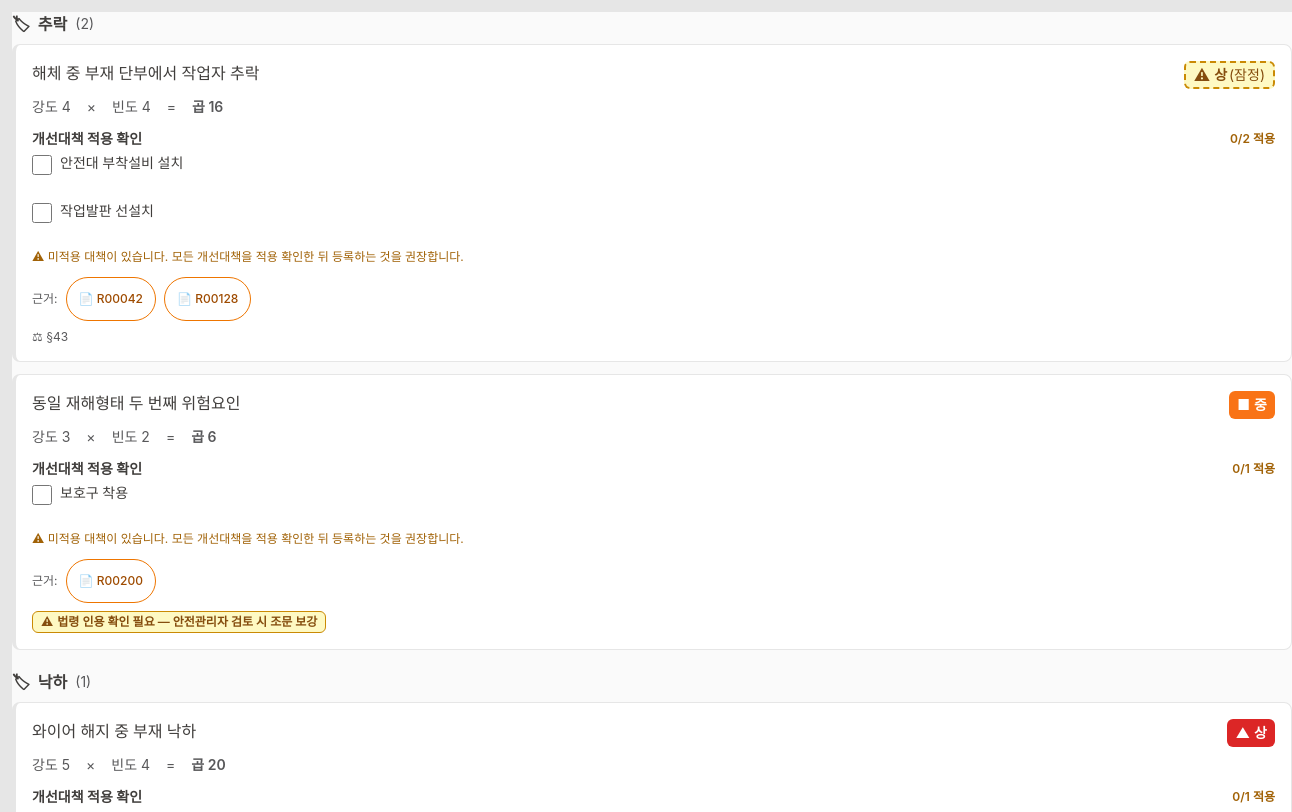
Test: HazardMatrix › 개선대책은 미체크로 시작하고 체크 시 '적용 확인'과 카운트가 갱신된다 (P1-2)
Expected: the text "0/2 적용" is shown, x1=1230 y1=131 x2=1275 y2=147
Click the checkbox with test id "control-checkbox" showing "안전대 부착설비 설치".
click(42, 165)  # box x1=32 y1=155 x2=52 y2=175
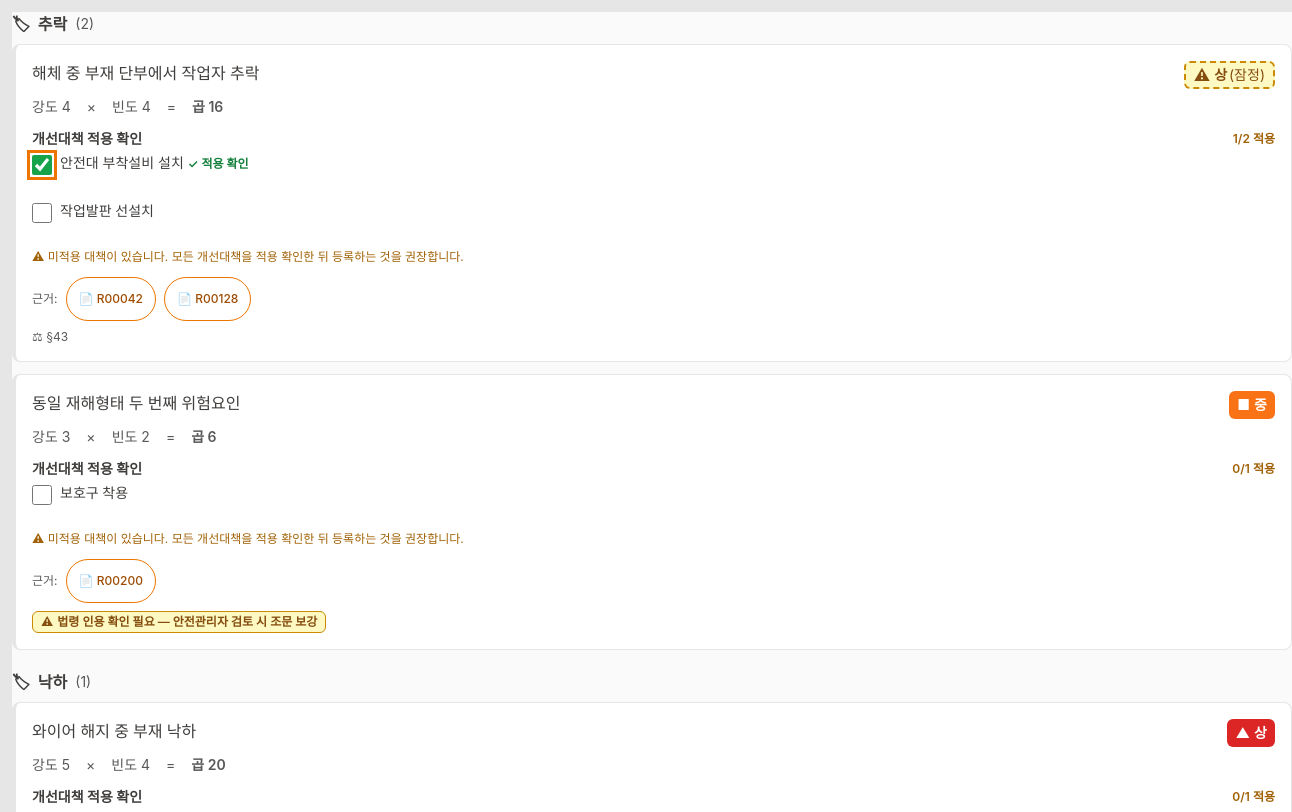
Expected: the checkbox with test id "control-checkbox" showing "안전대 부착설비 설치✓ 적용 확인" is checked, x1=32 y1=155 x2=52 y2=175
Expected: the text "1/2 적용" is shown, x1=1233 y1=131 x2=1275 y2=147
Expected: the text "✓ 적용 확인" is shown, x1=188 y1=156 x2=249 y2=171
// 전부 체크 → 미적용 경고 사라짐
Click the checkbox with test id "control-checkbox" showing "작업발판 선설치".
click(42, 213)  # box x1=32 y1=203 x2=52 y2=223
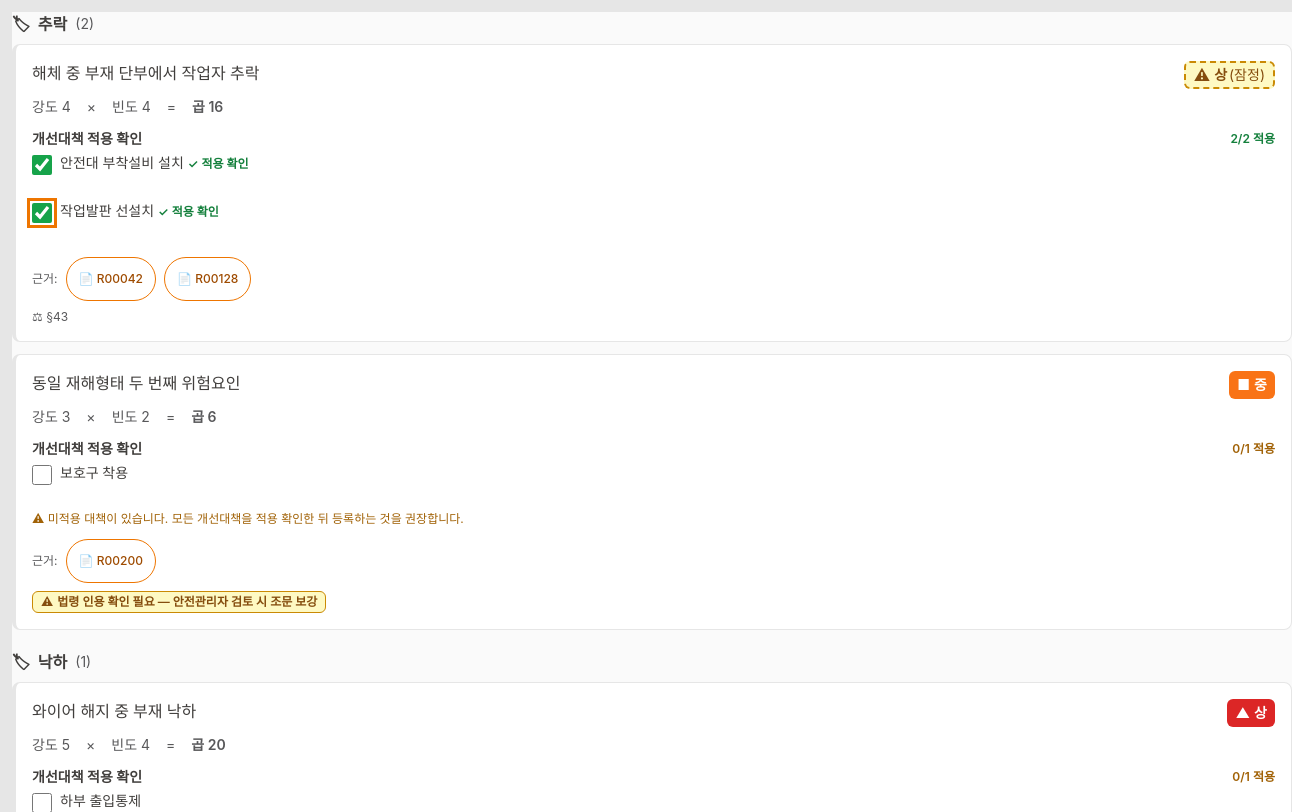
Expected: the text "2/2 적용" is shown, x1=1230 y1=131 x2=1275 y2=147
